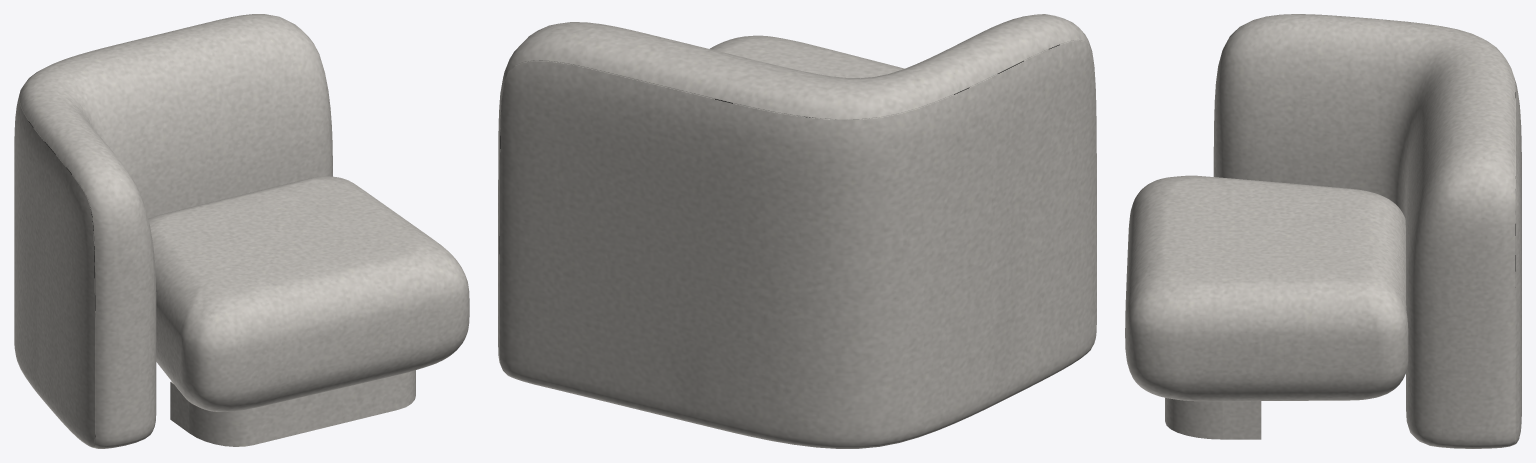
The model's file is blown-armchair-4k-baked.glb.
3 views of the same model, side by side, from view 1: azimuth 30°, elevation 25°; view 2: azimuth 150°, elevation 25°; view 3: azimuth 270°, elevation 25° (orthographic). The views are drawn at different scales.
Visible parts, largest first — view 1: blown-armchair-4k-baked-mesh; view 2: blown-armchair-4k-baked-mesh; view 3: blown-armchair-4k-baked-mesh.
Part boxes in pixels (x1=…): blown-armchair-4k-baked-mesh: x1=14, y1=14, x2=469, y2=448; blown-armchair-4k-baked-mesh: x1=498, y1=14, x2=1096, y2=448; blown-armchair-4k-baked-mesh: x1=1125, y1=14, x2=1521, y2=448.
Size of the model in its own units: 0.8806 by 0.6792 by 0.8624.
1 material, 1 textured.
